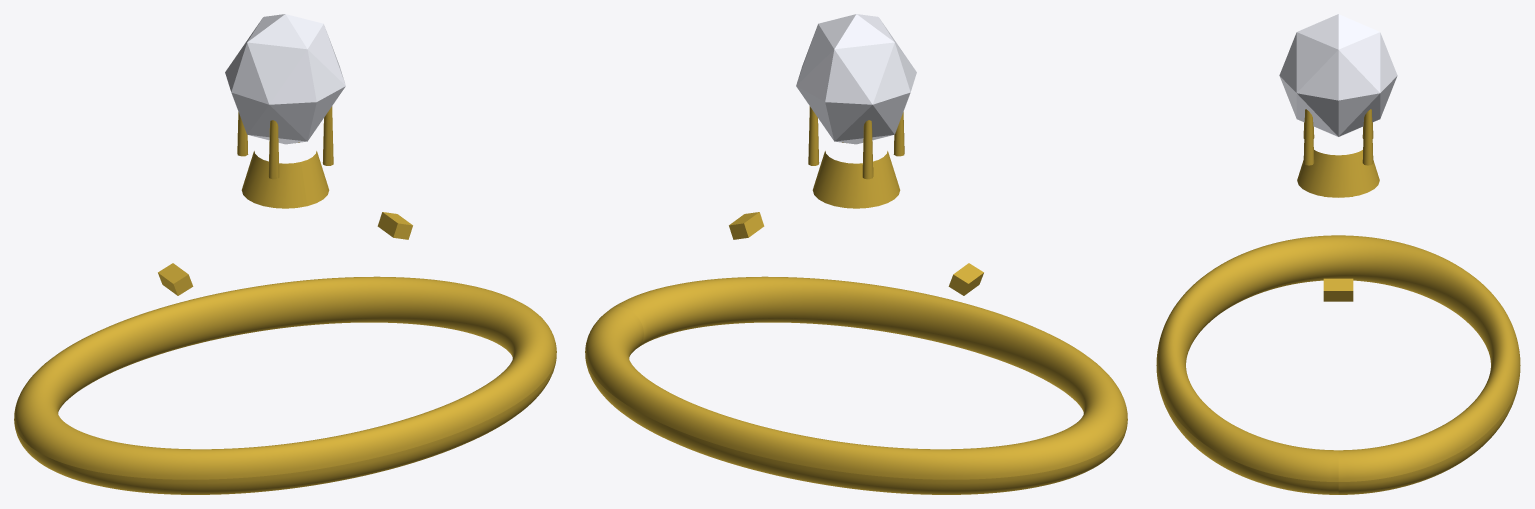
File: ring-diamond-yellow.glb
The picture shows the model from 3 angles, left to right: view 1: azimuth 30°, elevation 25°; view 2: azimuth 150°, elevation 25°; view 3: azimuth 270°, elevation 25°; orthographic projection. The views are drawn at different scales.
Bounding box in the file's own units: 1.87 × 1.39 × 1.23.
